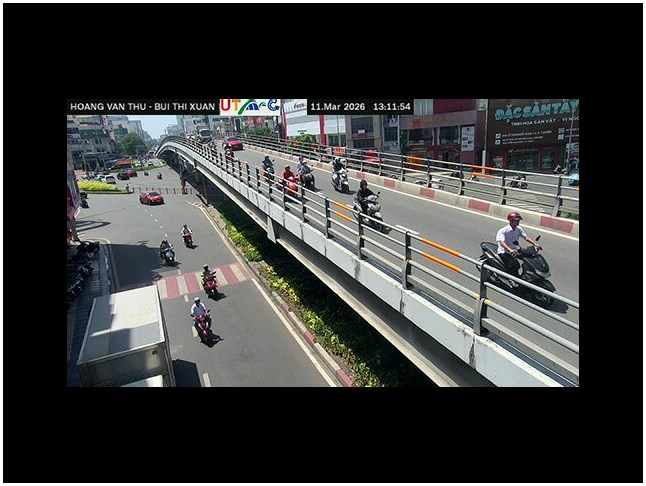car: (139, 188, 165, 205)
